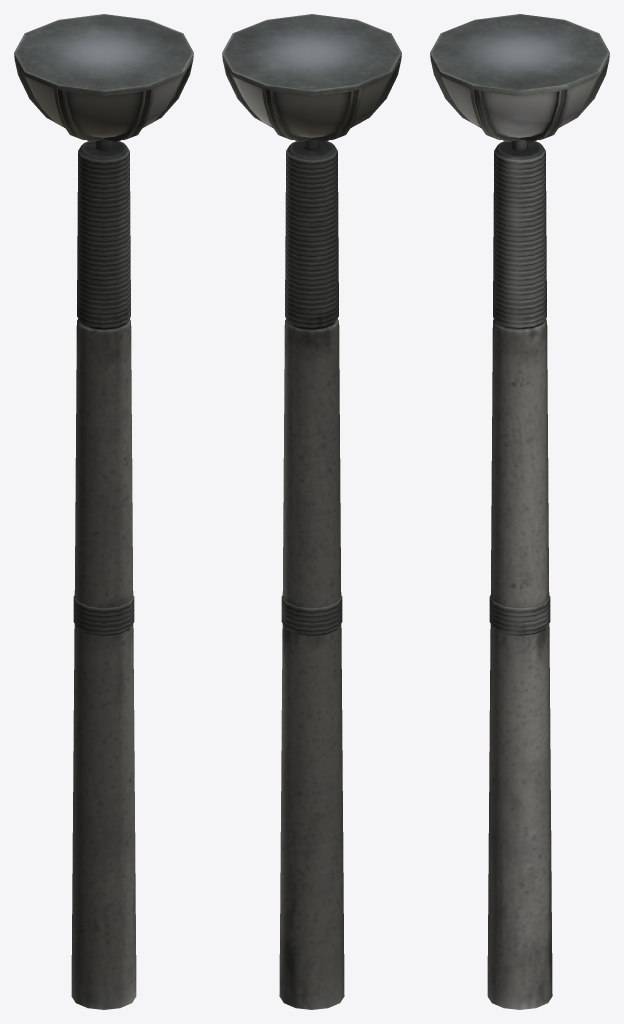
Rendered from Preset_StreetLightD.fbx.
3 renders of one model, left to right at view 1: azimuth 30°, elevation 25°; view 2: azimuth 150°, elevation 25°; view 3: azimuth 270°, elevation 25°, orthographic.
Visible parts, largest first — view 1: BodyVD, Emitting3, Emitting2, Emitting4; view 2: BodyVD, Emitting1, Emitting, Emitting2; view 3: BodyVD, Emitting5, Emitting, Emitting4.
Part boxes in pixels (x1,y1,x2,y2): BodyVD: [14, 14, 193, 1009]; Emitting3: [66, 91, 141, 137]; Emitting2: [24, 75, 64, 126]; Emitting4: [143, 75, 183, 126]; BodyVD: [222, 14, 401, 1009]; Emitting1: [274, 91, 349, 137]; Emitting: [232, 75, 272, 126]; Emitting2: [351, 75, 391, 126]; BodyVD: [430, 14, 609, 1009]; Emitting5: [482, 91, 557, 137]; Emitting: [559, 75, 599, 126]; Emitting4: [440, 75, 480, 126].
Bounding box in the file's own units: 72.32 × 71.07 × 411.
2 materials, 2 textured.
